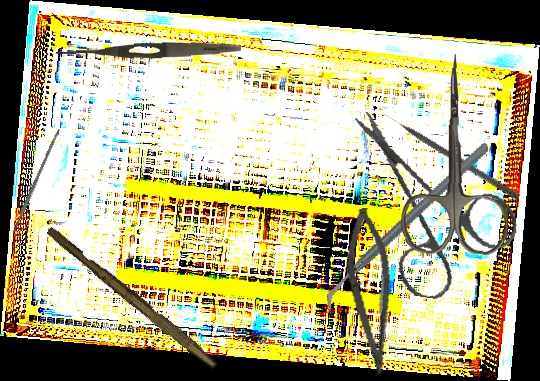Chopper: (290, 139, 523, 315)
Dressing Forceps: (54, 39, 242, 63)
Iris Scissors: (329, 110, 532, 310), (400, 53, 511, 255)
Micro Scissor: (337, 205, 407, 377)
Pusher: (380, 108, 522, 201)
Scalpel Handle: (43, 225, 222, 370), (10, 127, 62, 234)
